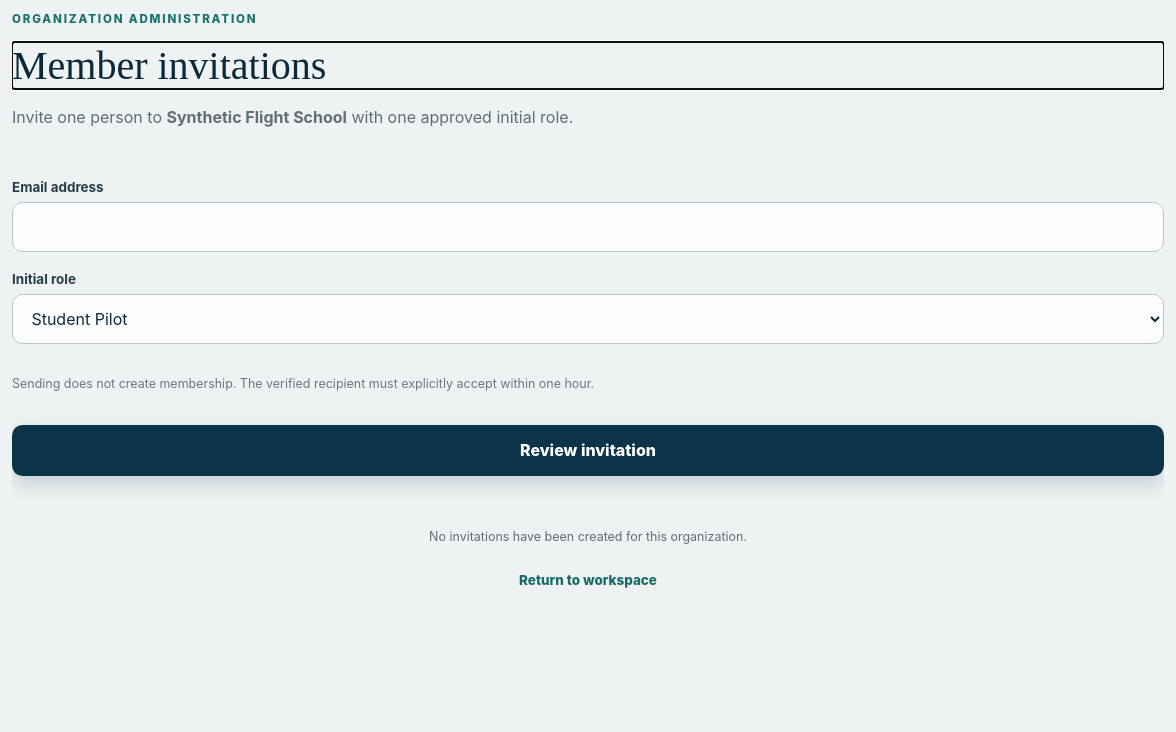
Scenario: FEAT-004 member invitation administration › rejects a browser-injected role absent from the server-approved list
This screenshot has width=1176, height=732.
Type "student@example.test" into the field labelled "Email address". click: x=588, y=227
box: [12,202,1164,252]
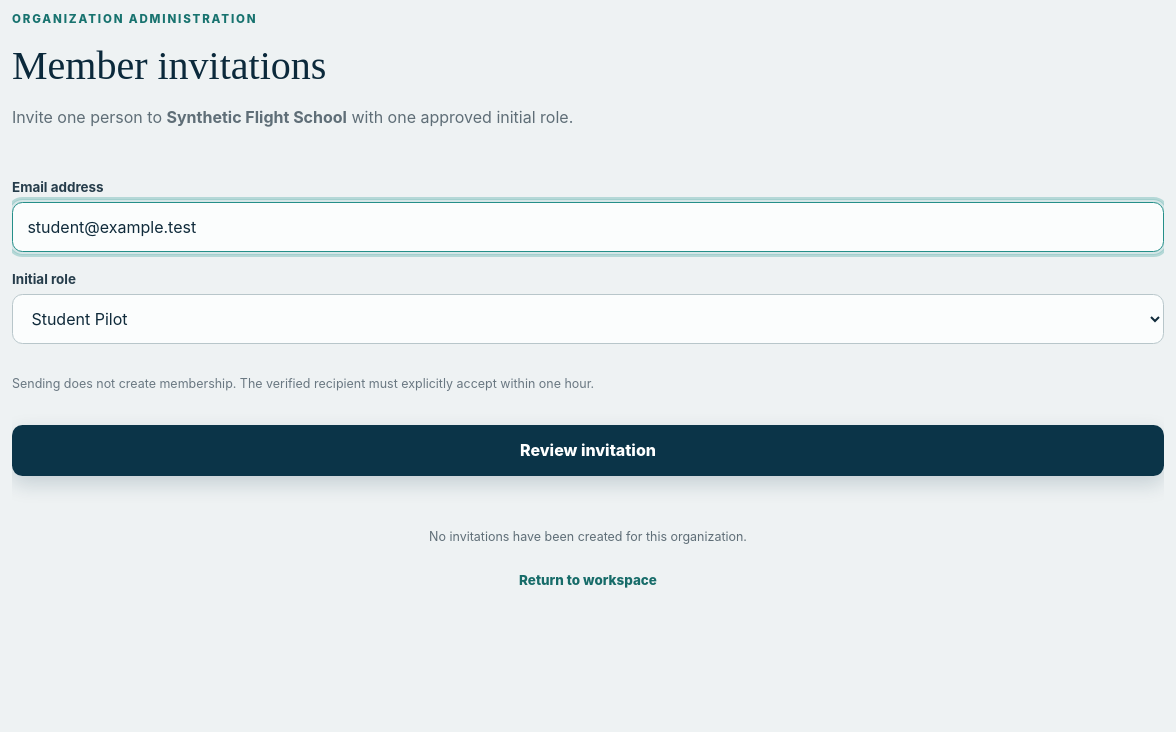
Select "Unapproved role" in the dropdown labelled "Initial role". click: x=588, y=319
box: [12,294,1164,344]
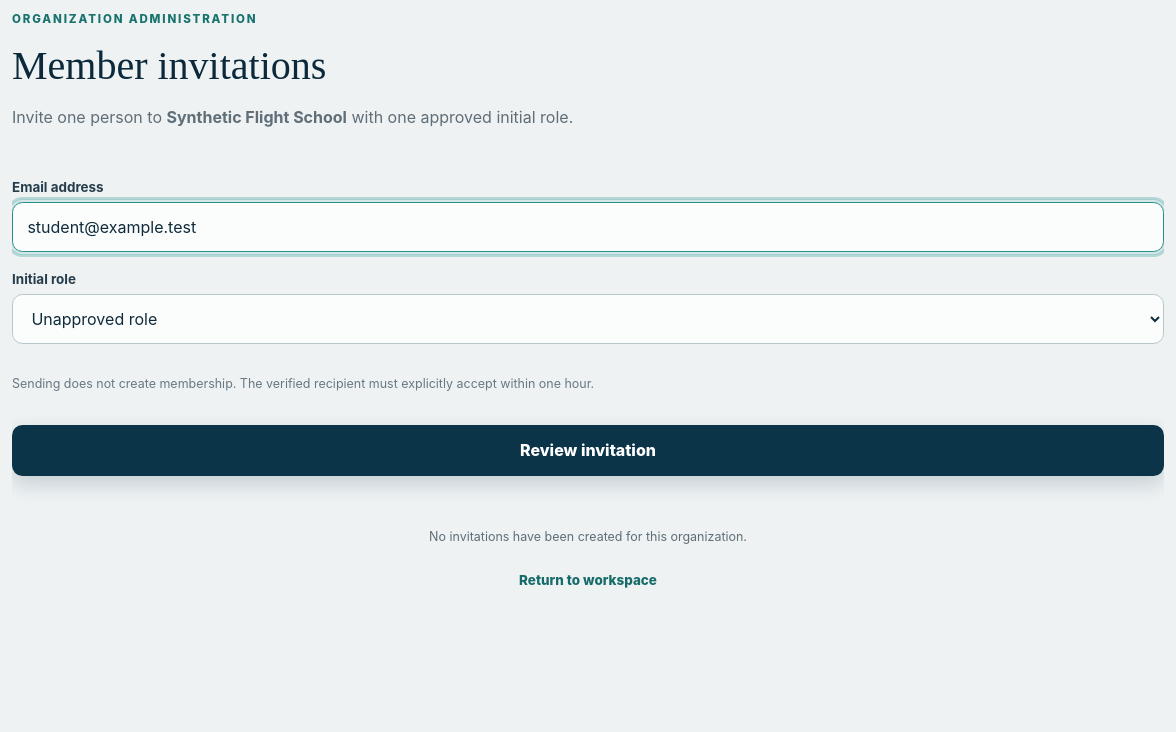
Click the button "Review invitation". click: x=588, y=450
box: [12,425,1164,476]
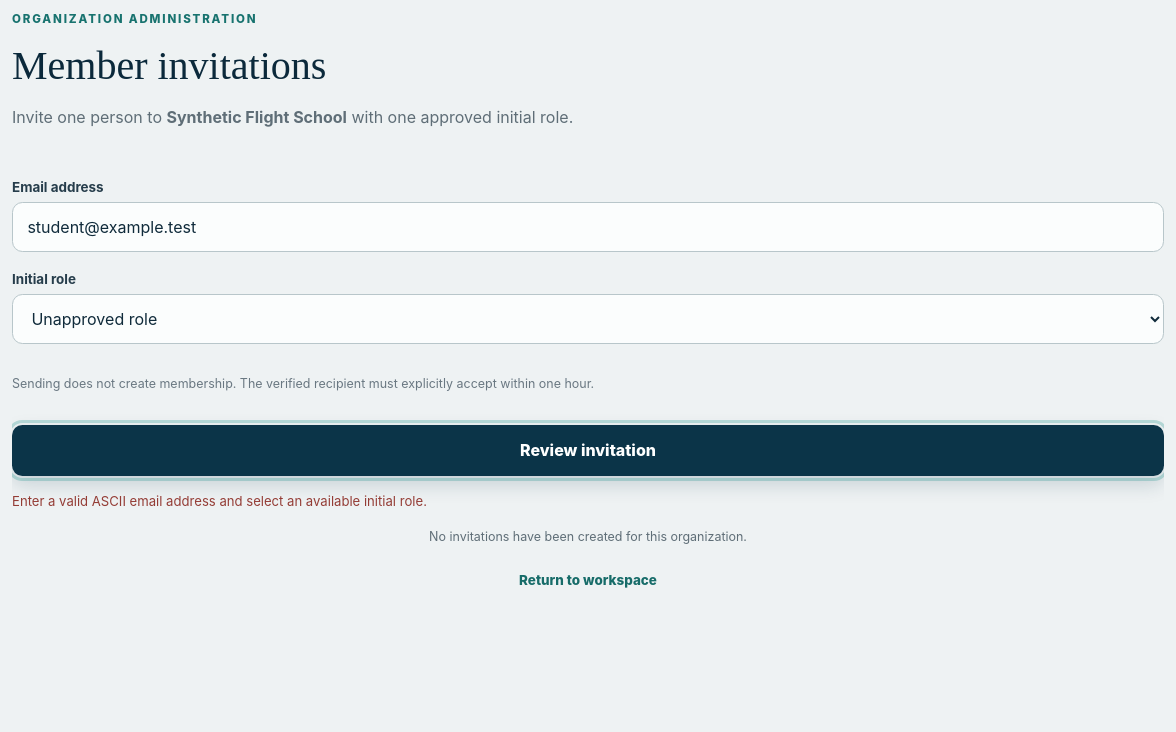
Check: the message shows "select an available initial role", box [12,493,427,509]
